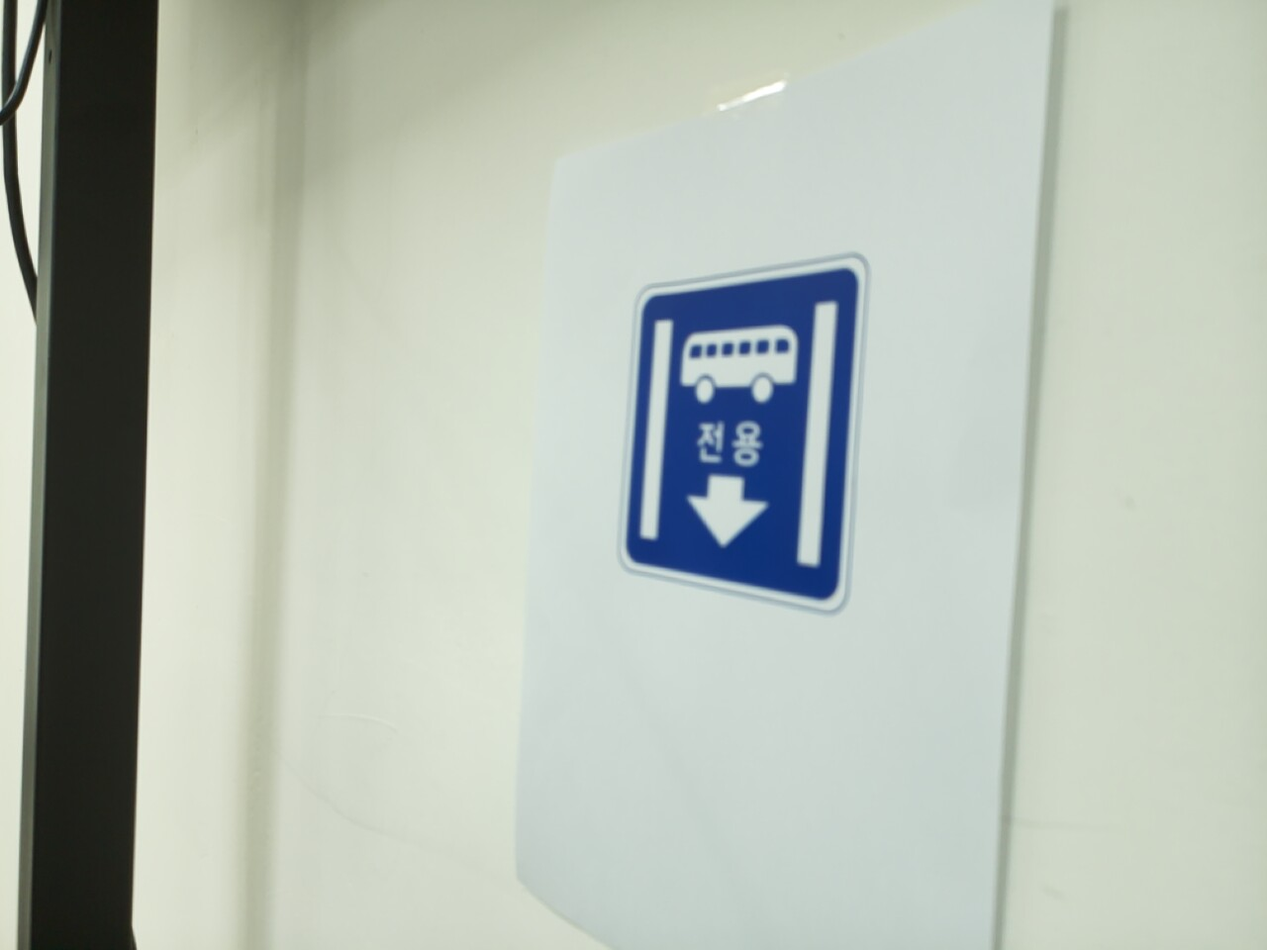bus_only_lane: (618, 258, 866, 611)
